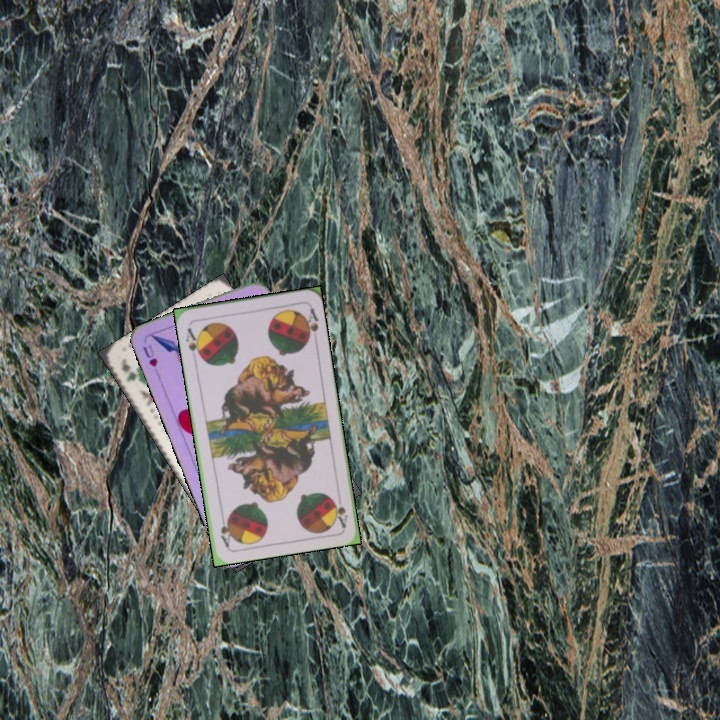GK: (117, 354, 145, 387)
HU: (139, 340, 160, 369)
SA: (329, 489, 351, 530), (182, 324, 204, 361)
